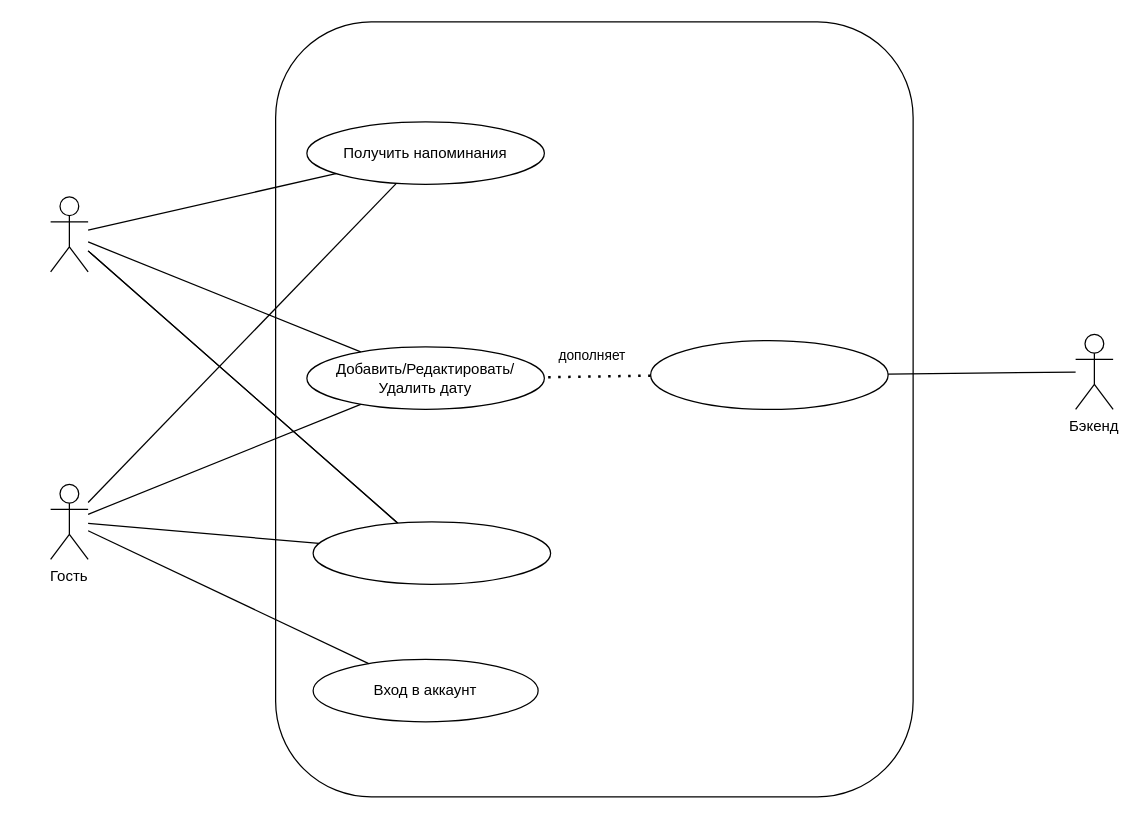
Image size: 1141x819. Some labels were removed from this diagram. The box of each missing label's shape, as (x1, y1, x2, y2) in pixels:
Пользователь: (49, 196, 88, 272)
Посмотреть напоминания: (312, 521, 551, 584)
Синхронизировать напоминания: (649, 339, 888, 409)
